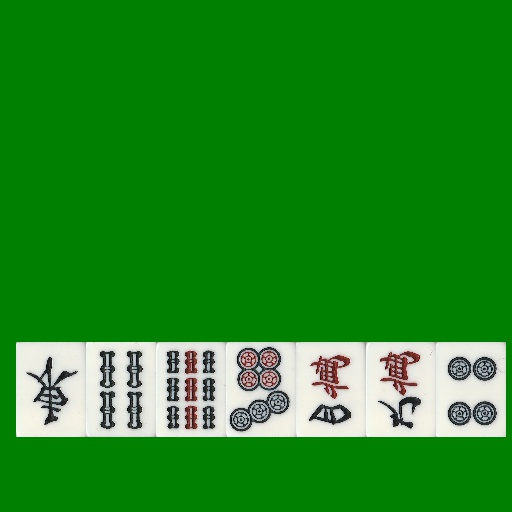4m: (296, 342, 366, 437)
4p: (436, 342, 506, 437)
4s: (86, 342, 156, 437)
7p: (226, 342, 296, 437)
9m: (366, 342, 436, 437)
9s: (156, 342, 226, 437)
east: (16, 342, 86, 437)
